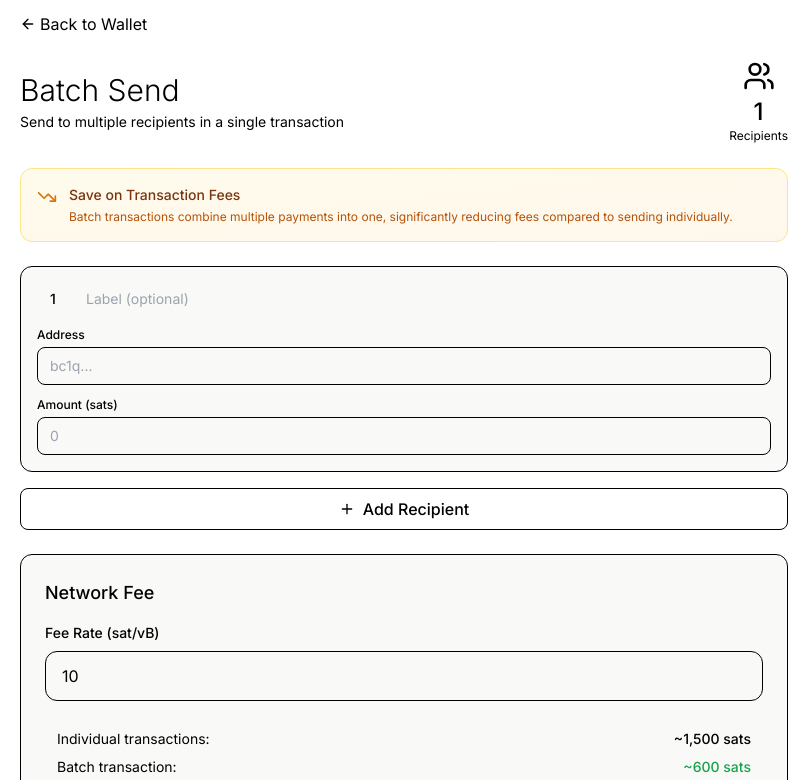
Test: BatchSend Component › should allow adding more recipients
The image size is (809, 780).
Click the button "Add Recipient".
click(404, 509)  # box [20,488,788,530]
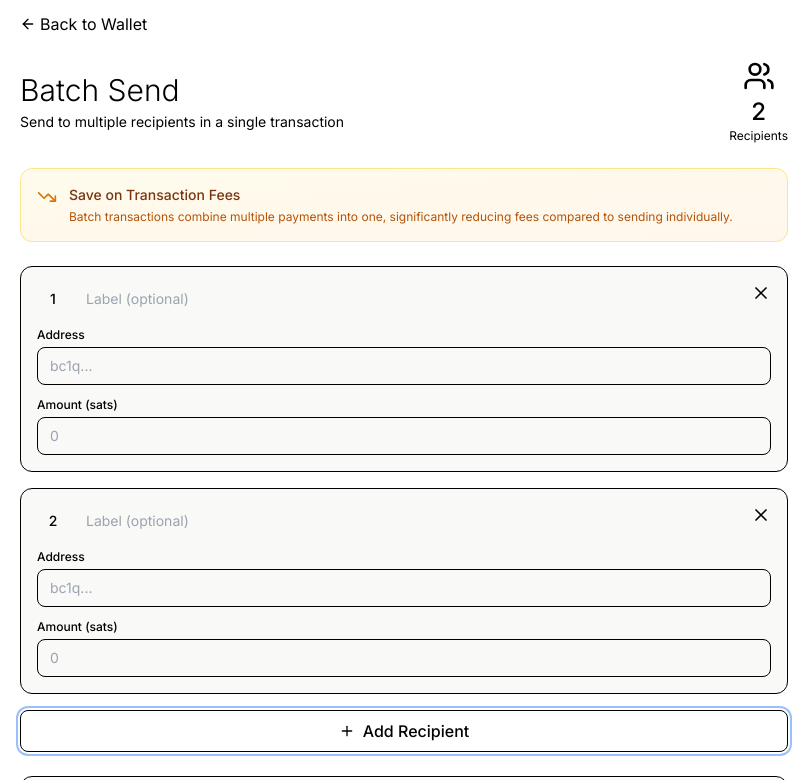
Expected: the number of fields with placeholder "bc1q..." is 2, [37,347,771,385]; [37,569,771,607]
